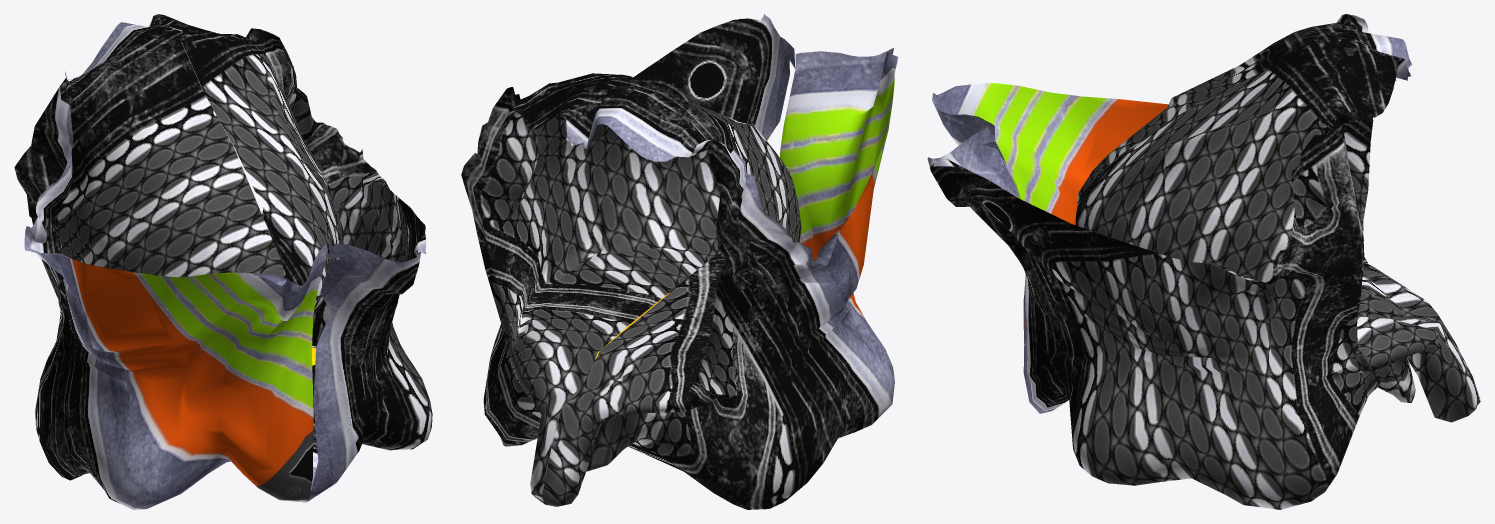
File: hel_d.glb
3 renders of one model, left to right at view 1: azimuth 30°, elevation 25°; view 2: azimuth 150°, elevation 25°; view 3: azimuth 270°, elevation 25°, orthographic. The views are drawn at different scales.
Visible parts, largest first — view 1: HELMET.004; view 2: HELMET.004; view 3: HELMET.004.
Boxes of the visible parts, <box> form: HELMET.004: <box>14,14,432,509</box>; HELMET.004: <box>461,14,898,509</box>; HELMET.004: <box>927,14,1480,509</box>.
Size of the model in its own units: 2.37 by 2.58 by 3.18.
Materials: 2 (1 with a texture image).
